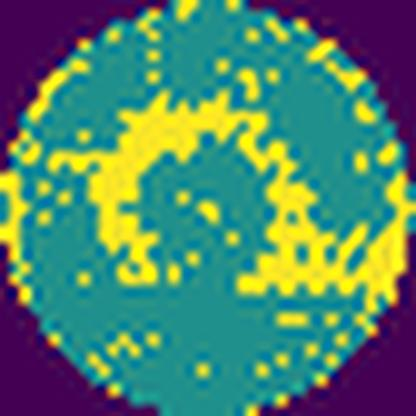Donut: (60, 78, 337, 315)
